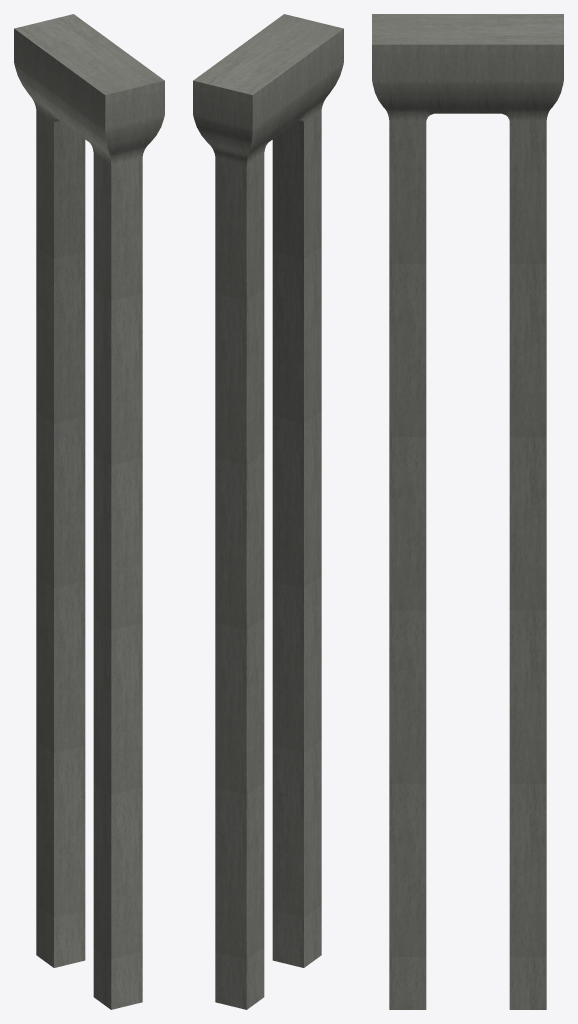
The model's file is SM_Big-Pier_2.glb.
3 renders of one model, left to right at view 1: azimuth 30°, elevation 25°; view 2: azimuth 150°, elevation 25°; view 3: azimuth 270°, elevation 25°, orthographic. The views are drawn at different scales.
Visible parts, largest first — view 1: SM_Big-Pier_2; view 2: SM_Big-Pier_2; view 3: SM_Big-Pier_2.
Boxes of the visible parts, x1,y1,x2,y2 form: SM_Big-Pier_2: (14,14,164,1009); SM_Big-Pier_2: (193,14,343,1009); SM_Big-Pier_2: (372,14,563,1009).
Bounding box in the file's own units: 1.9 × 28.06 × 5.01.
Materials: 1 (1 with a texture image).
